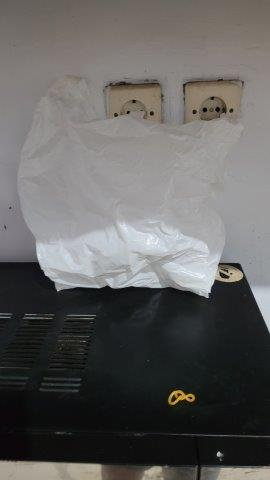plastik: (24, 75, 240, 301)
